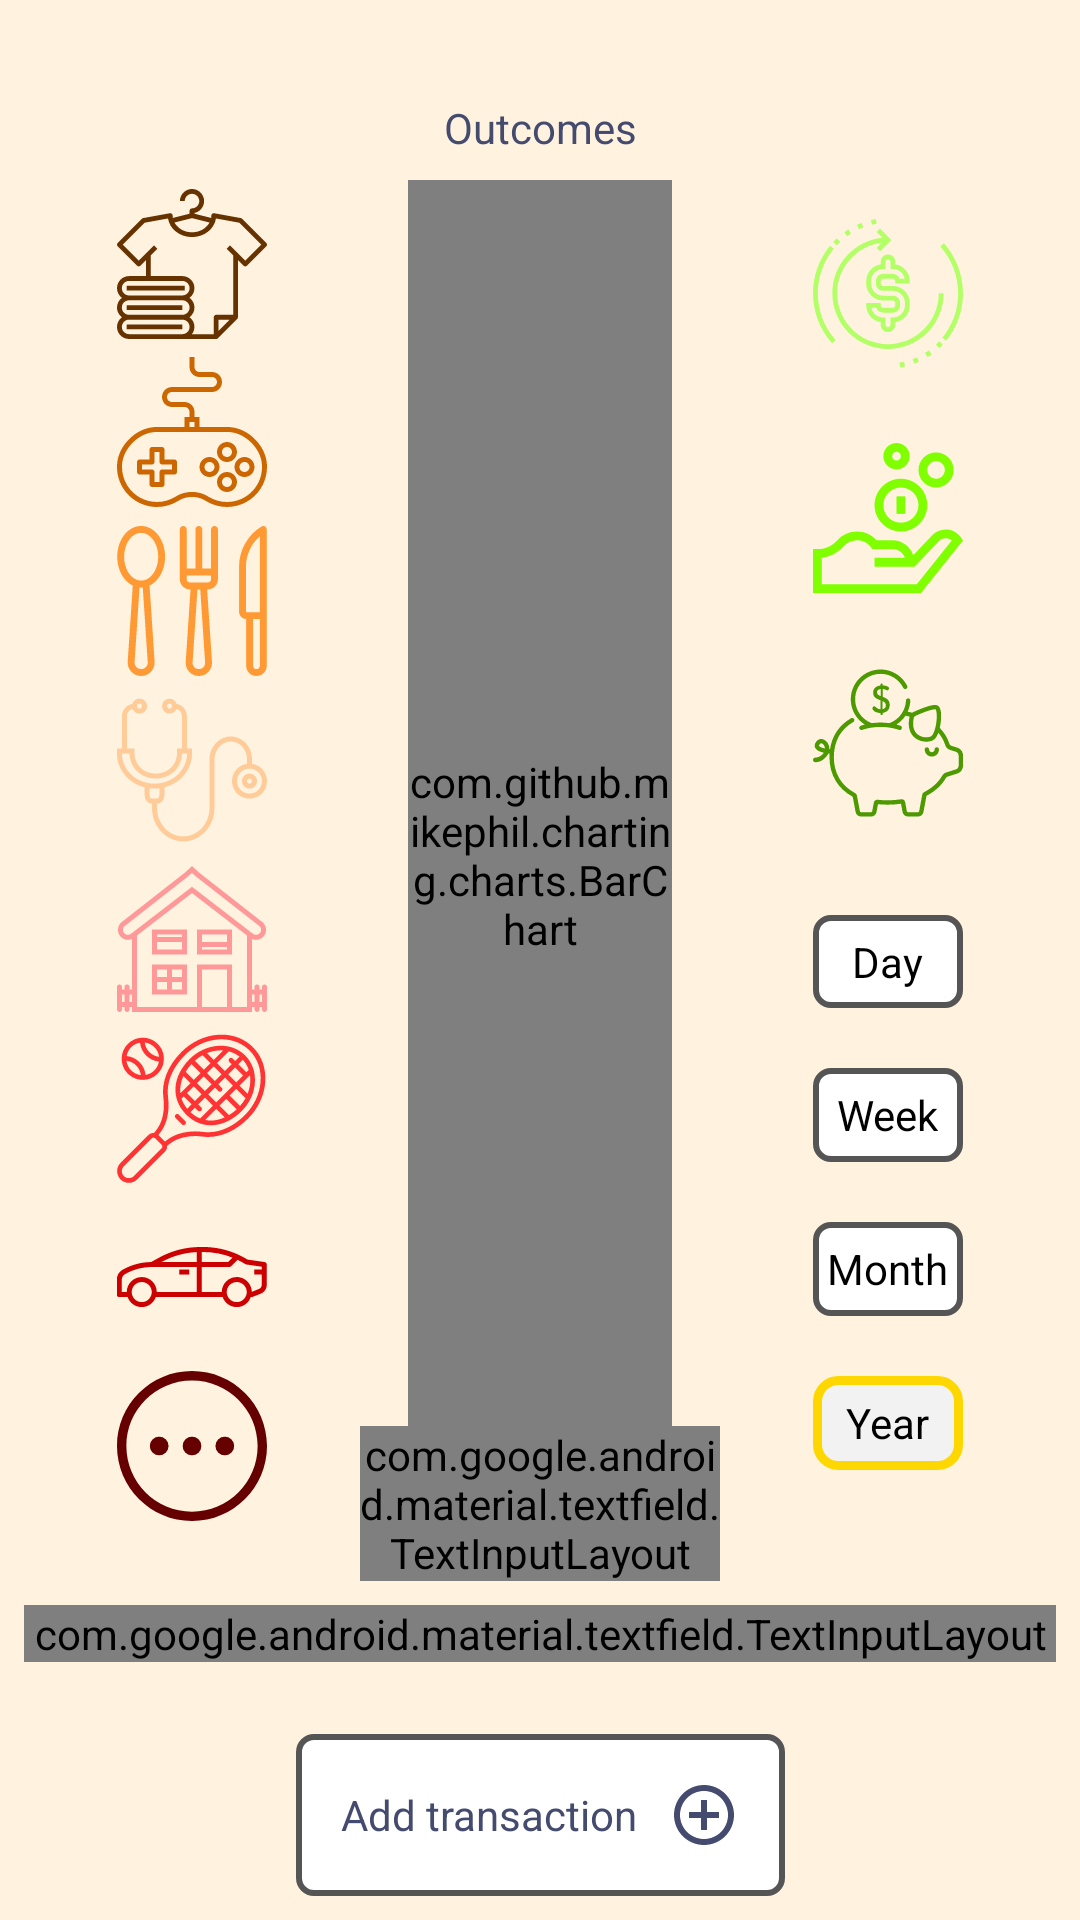

Screen size 1080x1920. Icon name, then its box in pixels as (x1, y1, x2, y2):
clothessvg: (117, 189, 267, 339)
entertainmentsvg: (117, 357, 267, 507)
foodsvg: (117, 526, 267, 676)
healthsvg: (117, 698, 267, 842)
housesvg: (117, 866, 267, 1012)
othersvg: (117, 1371, 267, 1521)
savingssvg: (813, 669, 963, 817)
sportsvg: (117, 1034, 266, 1183)
transportsvg: (117, 1247, 267, 1307)
